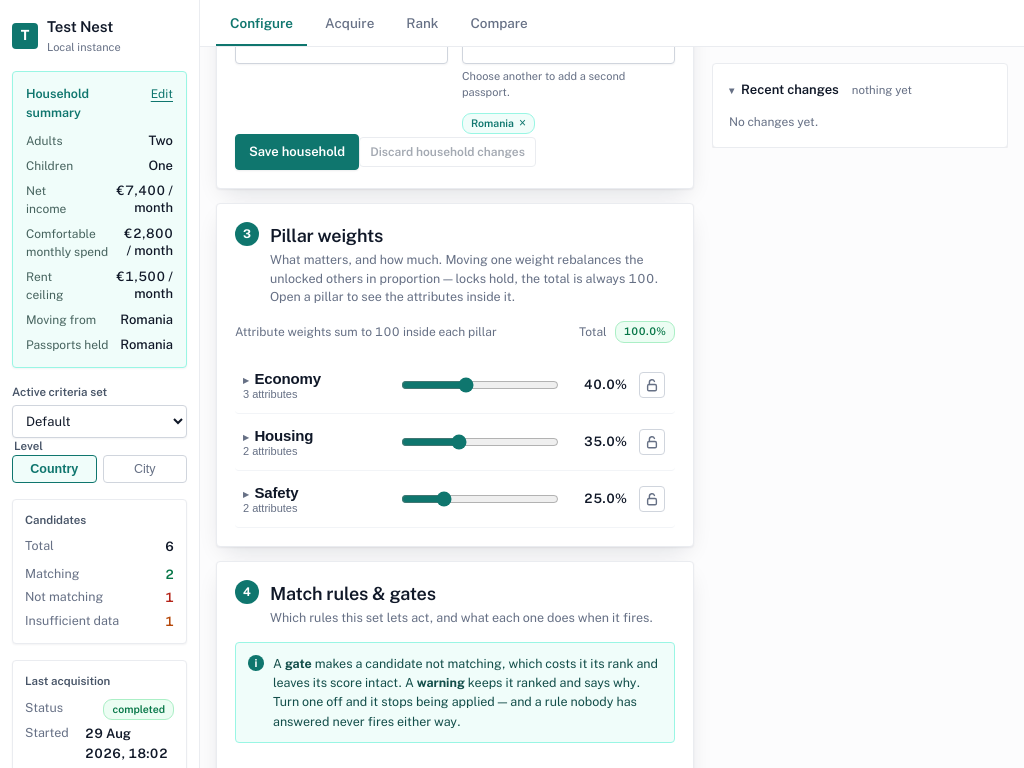
Test: the pillar weights panel › shows the weights the server rebalanced to
(page scrolled)
Set the slider named "Economy weight" to "50": [480, 385] box left=401, top=377, right=559, bottom=393
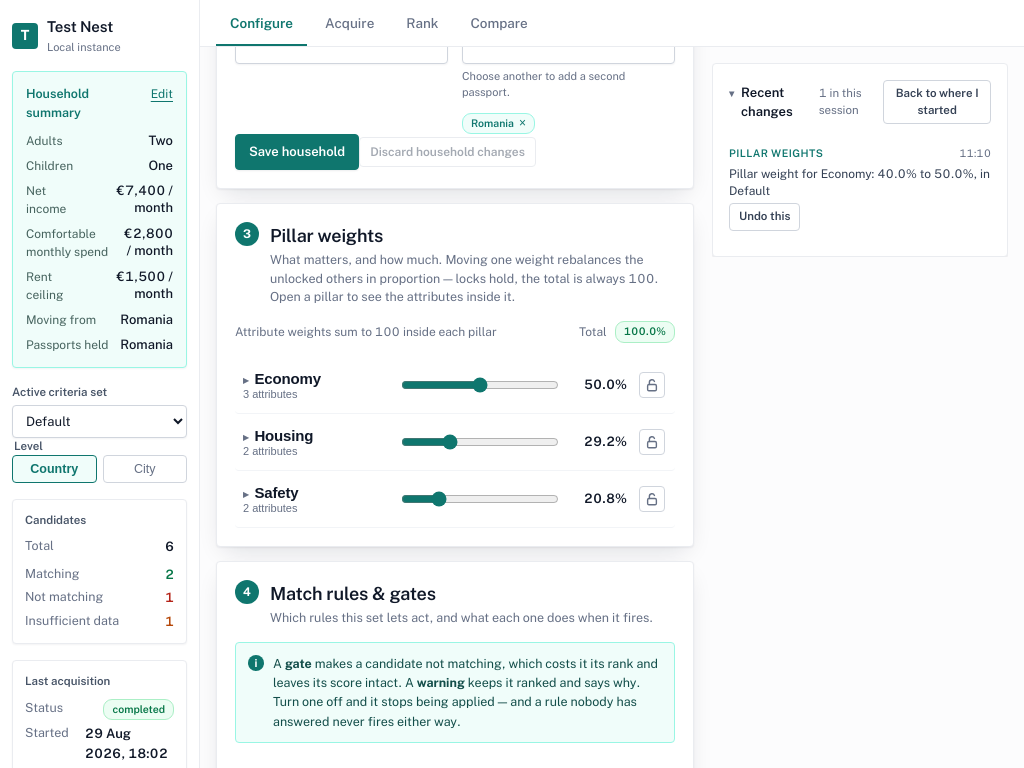
Expected: the text "29.2%" is shown, left=584, top=434, right=627, bottom=449
Expected: the text "20.8%" is shown, left=584, top=491, right=627, bottom=506
Expected: the text "50.0%" is shown, left=584, top=377, right=627, bottom=392
